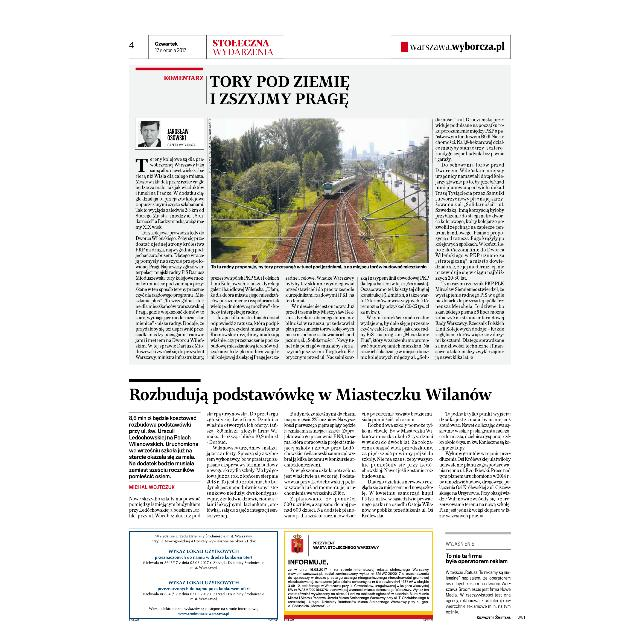article: (128, 64, 510, 366), (126, 374, 514, 528)
